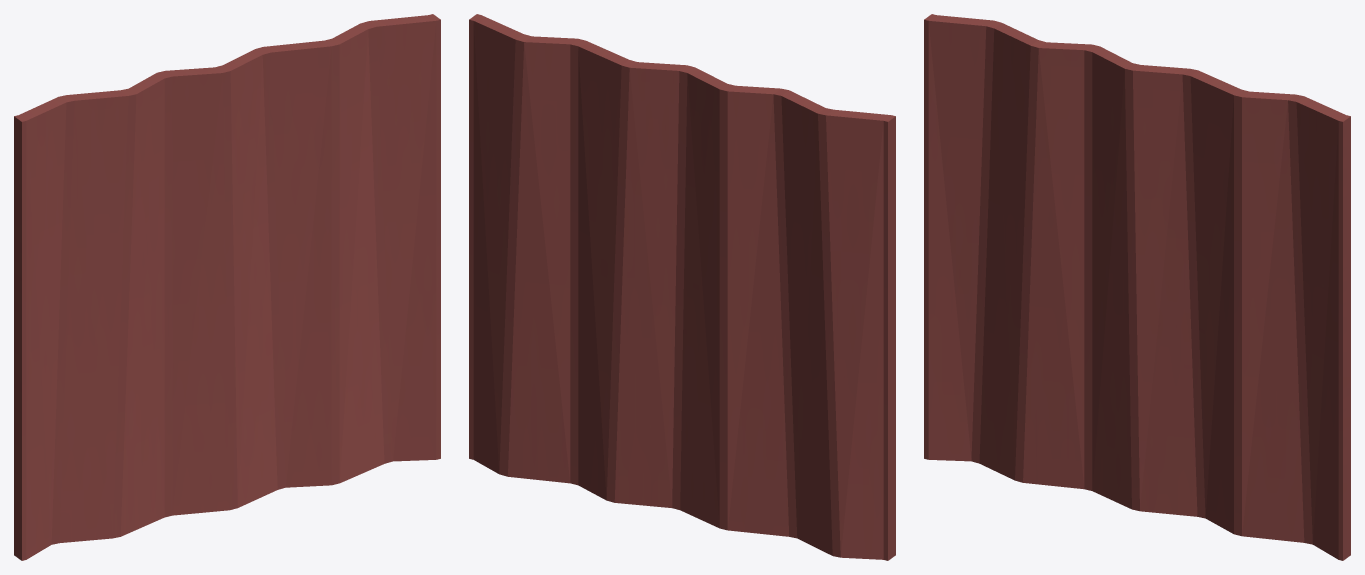
Rendered from metal_board_1.dae.
3 views of the same model, side by side, from view 1: azimuth 30°, elevation 25°; view 2: azimuth 150°, elevation 25°; view 3: azimuth 330°, elevation 25° (orthographic).
Parts seen in each view (by area): view 1: metal_board_1; view 2: metal_board_1; view 3: metal_board_1.
Boxes of the visible parts, <box> form: metal_board_1: <box>14,14,440,560</box>; metal_board_1: <box>469,14,895,560</box>; metal_board_1: <box>924,14,1350,560</box>.
Bounding box in the file's own units: 1.11 × 0.076 × 1.11.
